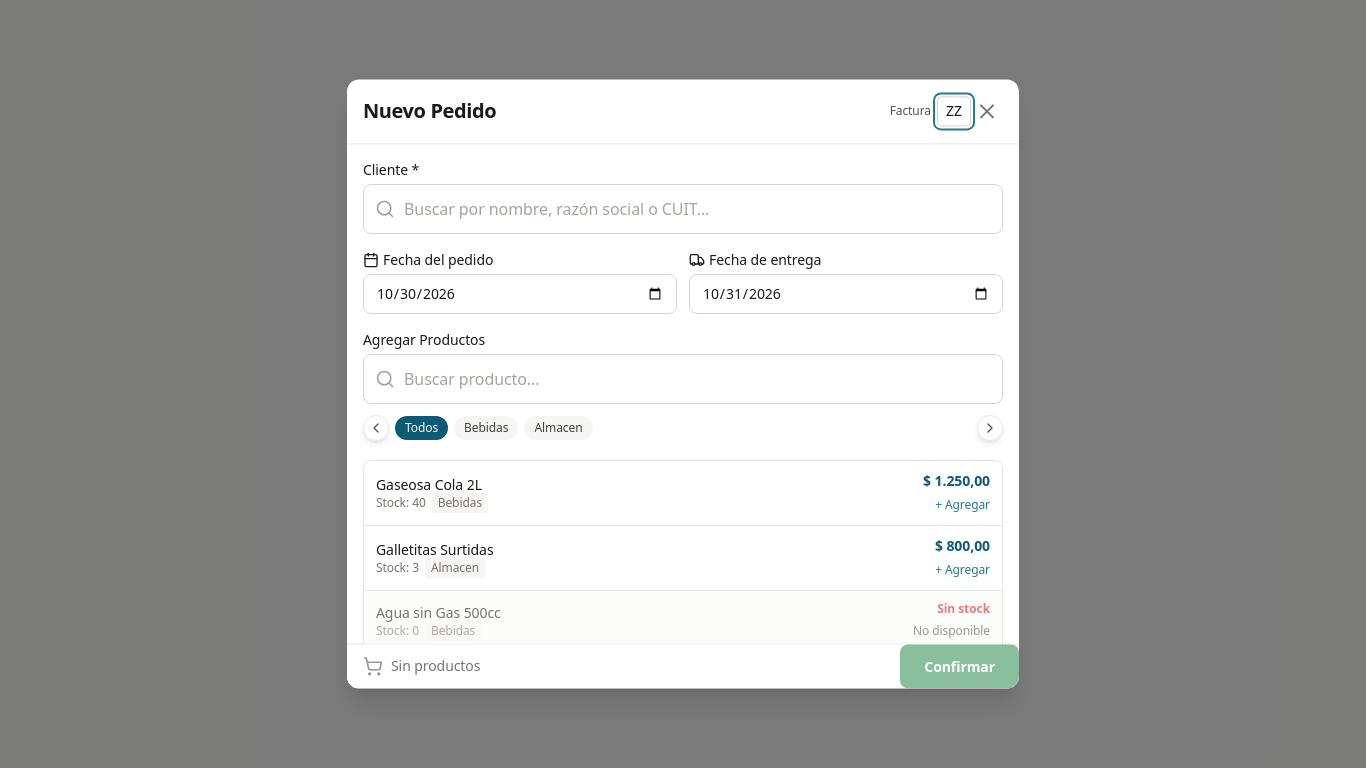
it: ModalPedido — guardas del confirmar › sin stock suficiente lista el faltante y apaga el confirmar
Type "Kiosco El Sol" into the field with placeholder "Buscar por nombre, razón social o CUIT...".
click(683, 209); type("Kiosco El Sol")  # box [363,184,1003,234]
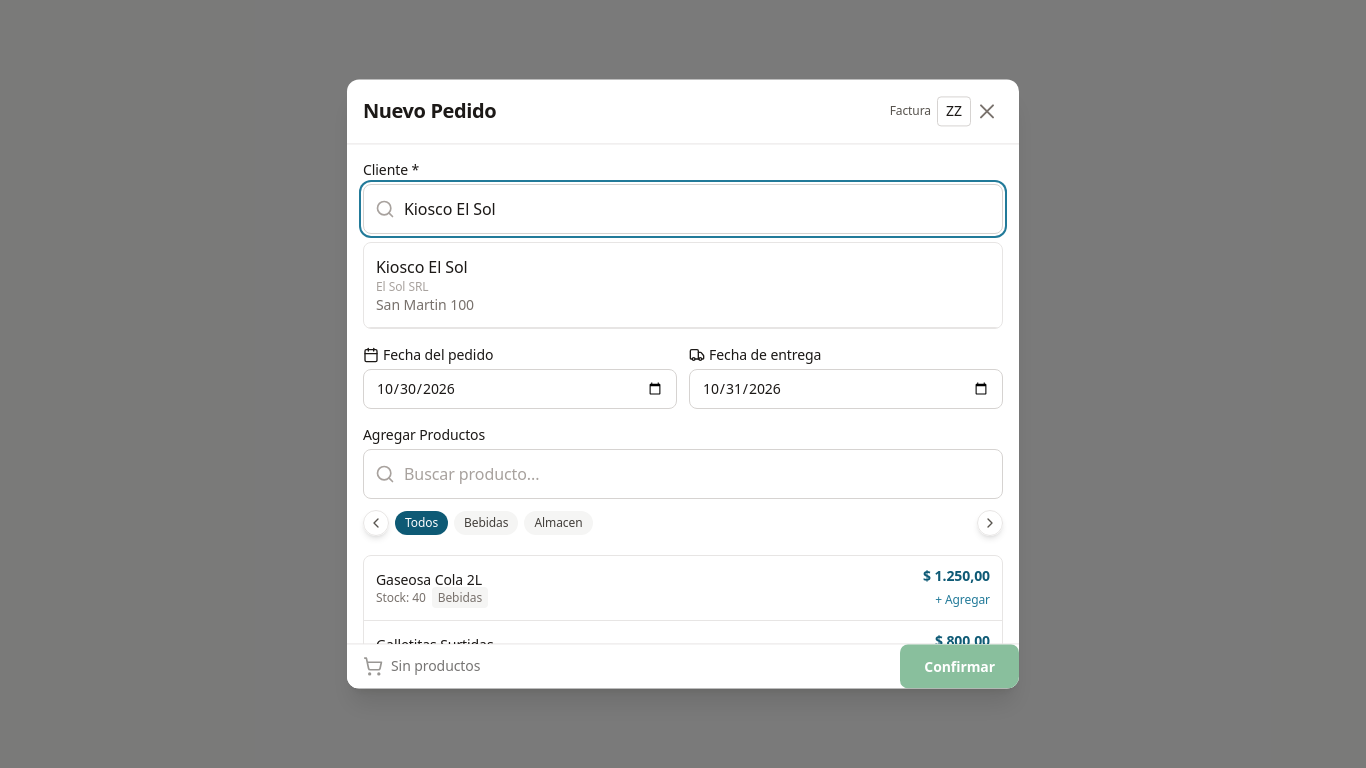
Click the option "Kiosco El Sol El Sol SRL San Martin 100".
click(422, 267)  # box [364,243,1002,328]
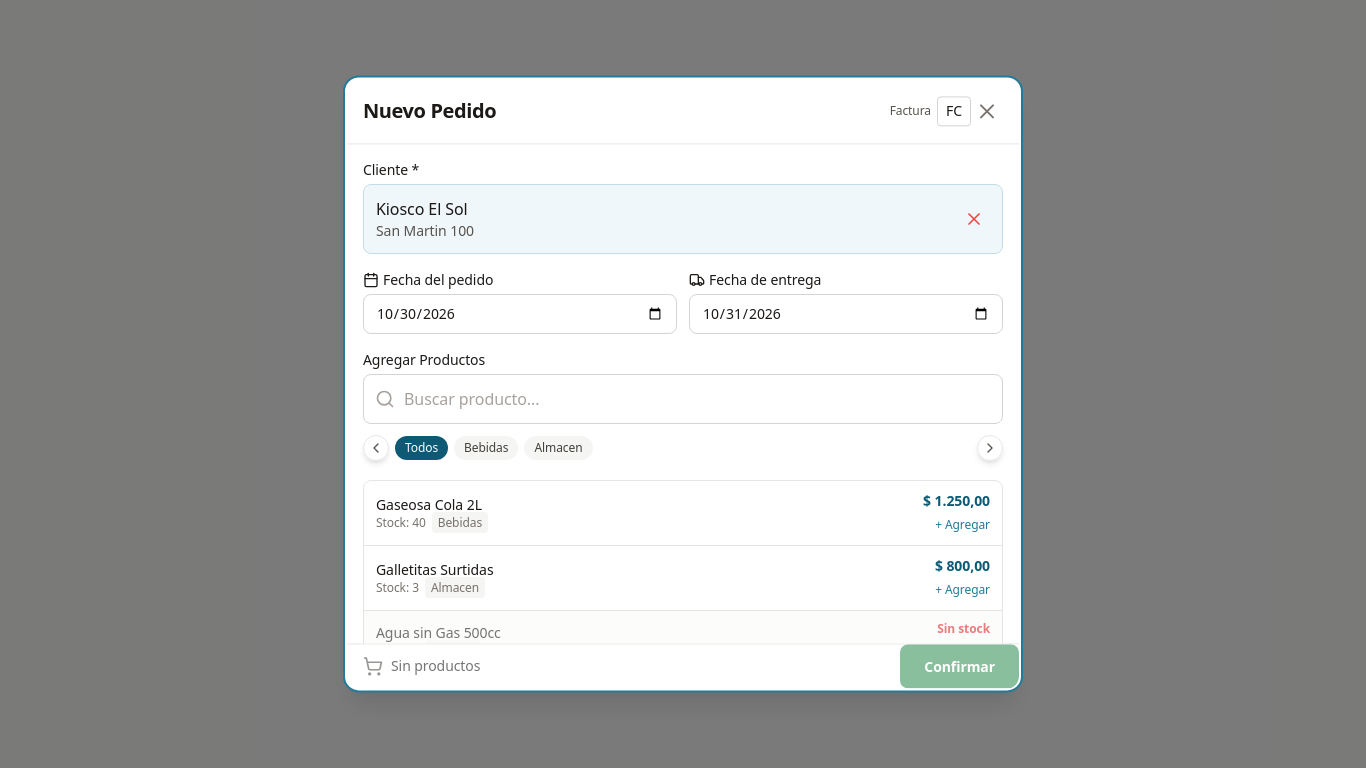
Type "Galletitas" into the field with placeholder "Buscar producto...".
click(683, 399); type("Galletitas")  # box [363,374,1003,424]
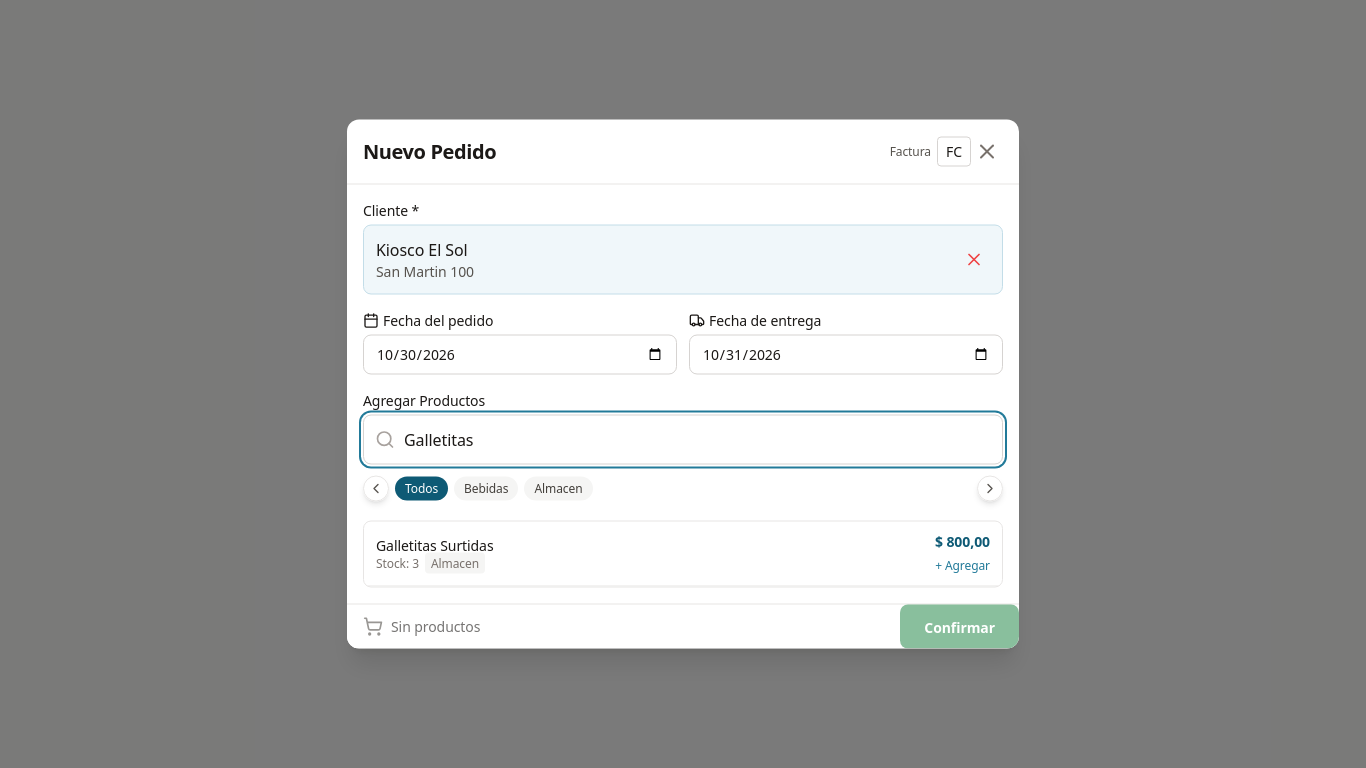
Click the text "+ Agregar".
click(963, 565)  # box [935,556,990,574]
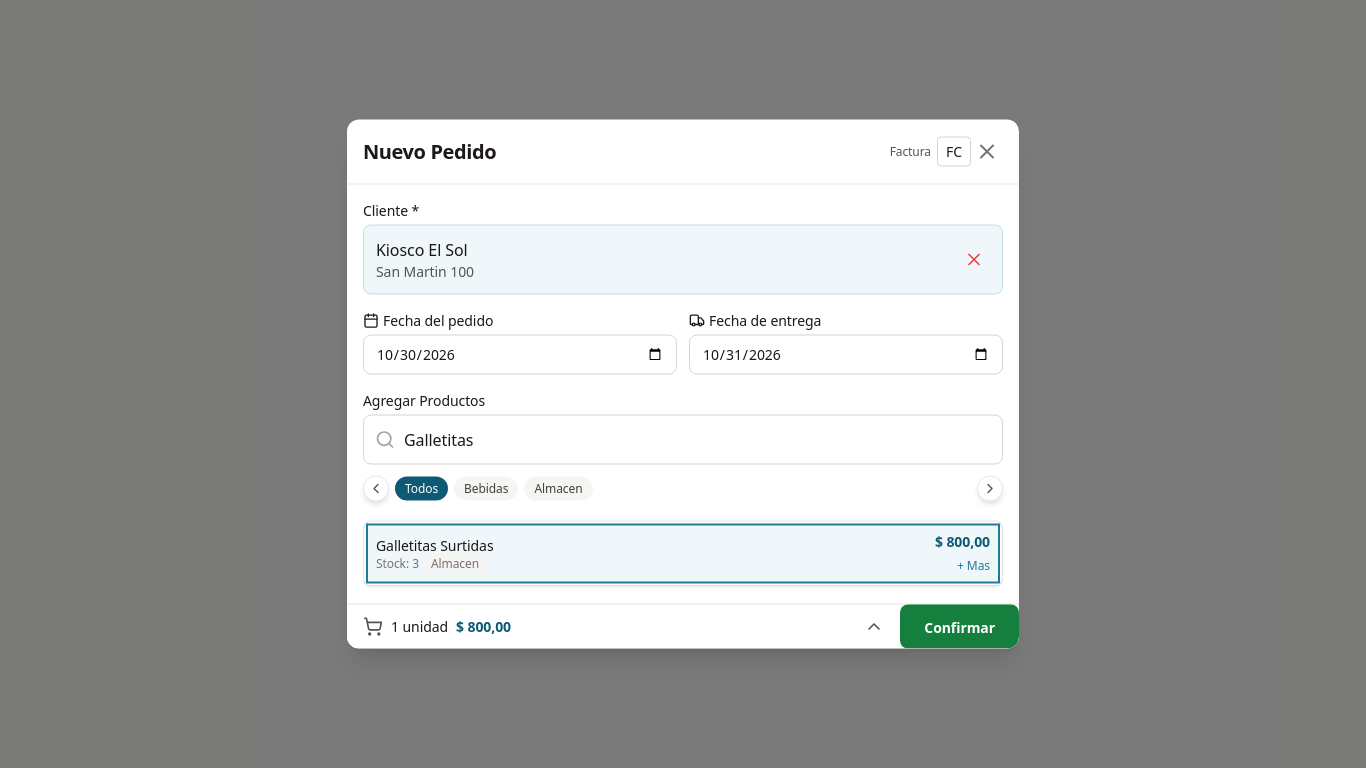
Click the button "1 unidad $ 800,00".
click(420, 626)  # box [347,604,900,648]
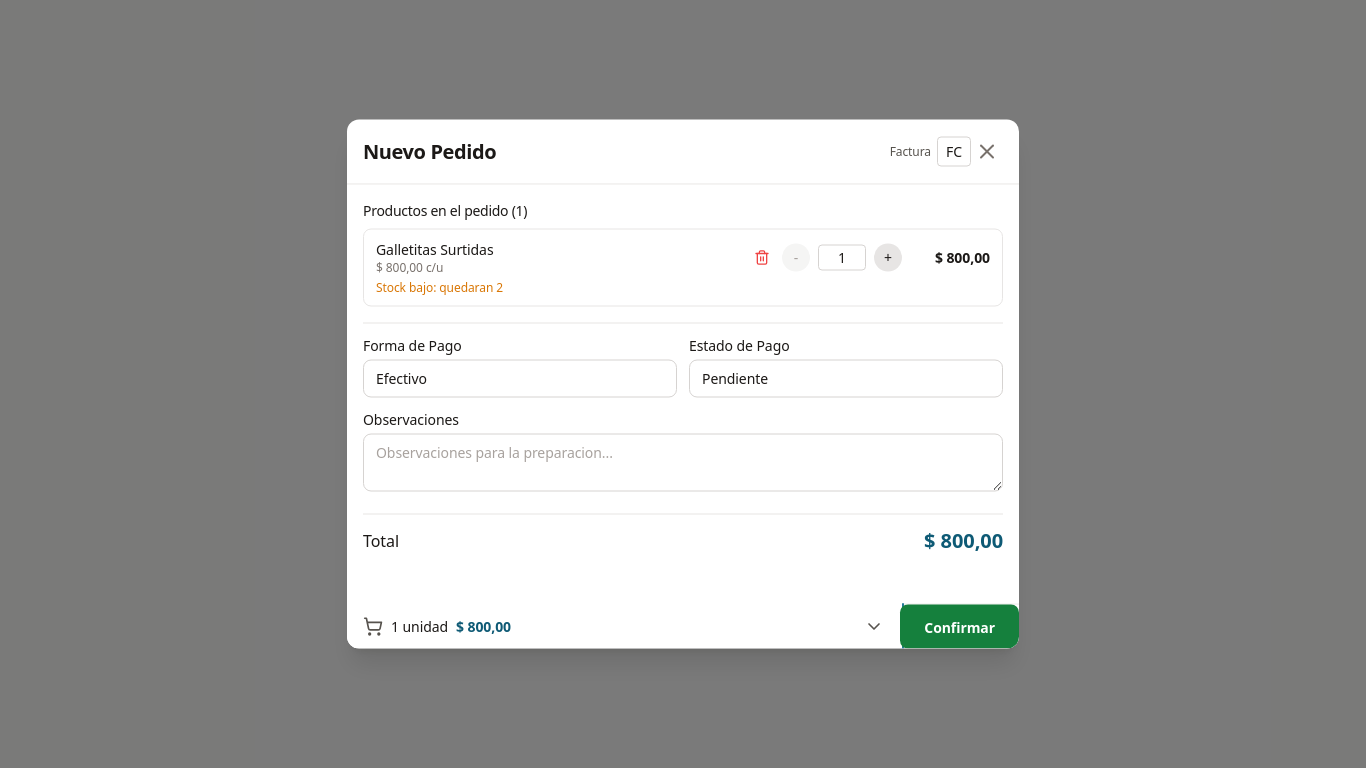
Replace the text in the field named "Cantidad" with "8" at (842, 258), box [818,244,866,270]
Press Enter
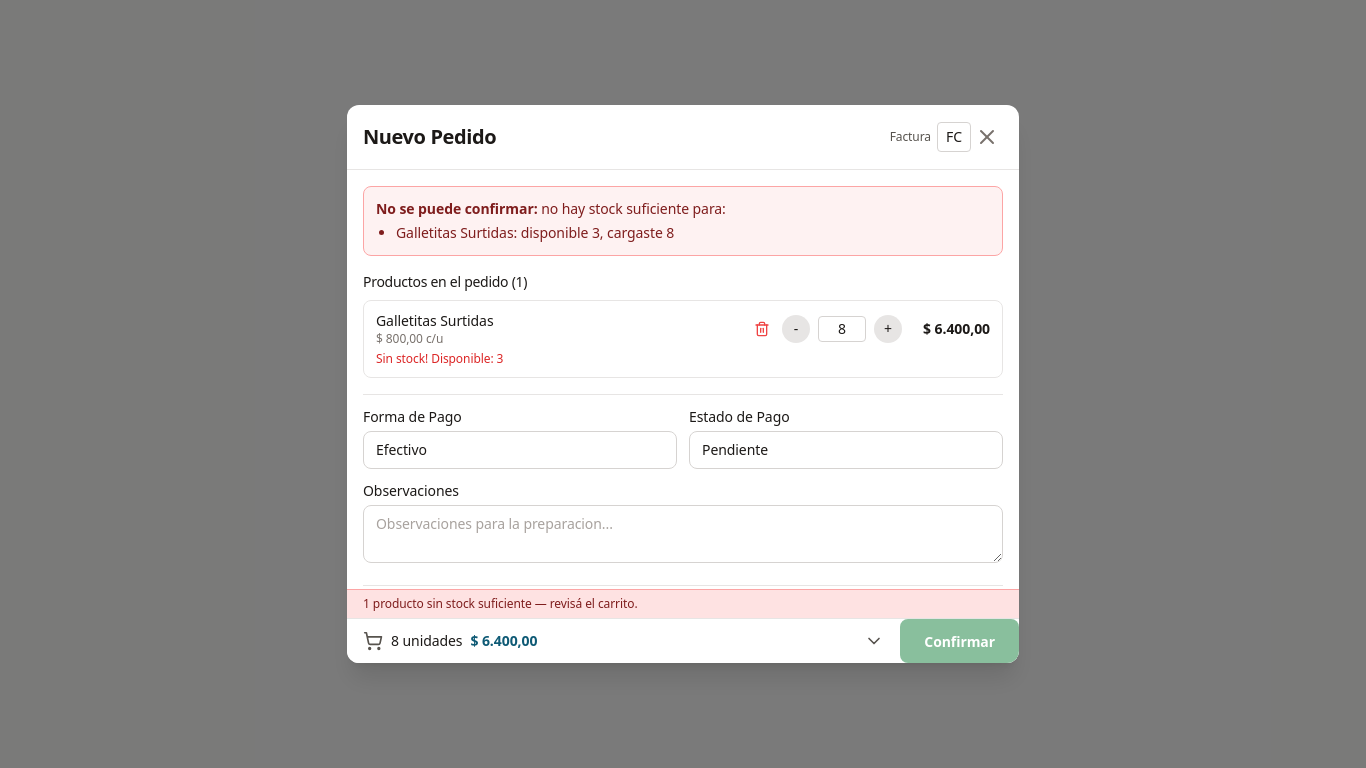
Now the list item "Galletitas Surtidas: disponible 3, cargaste 8" is shown, box [396,223,674,242]
Now the text "1 producto sin stock suficiente — revisá el carrito." is shown, box [347,589,1019,618]
Now the button "Confirmar" is disabled, box [900,619,1019,663]
